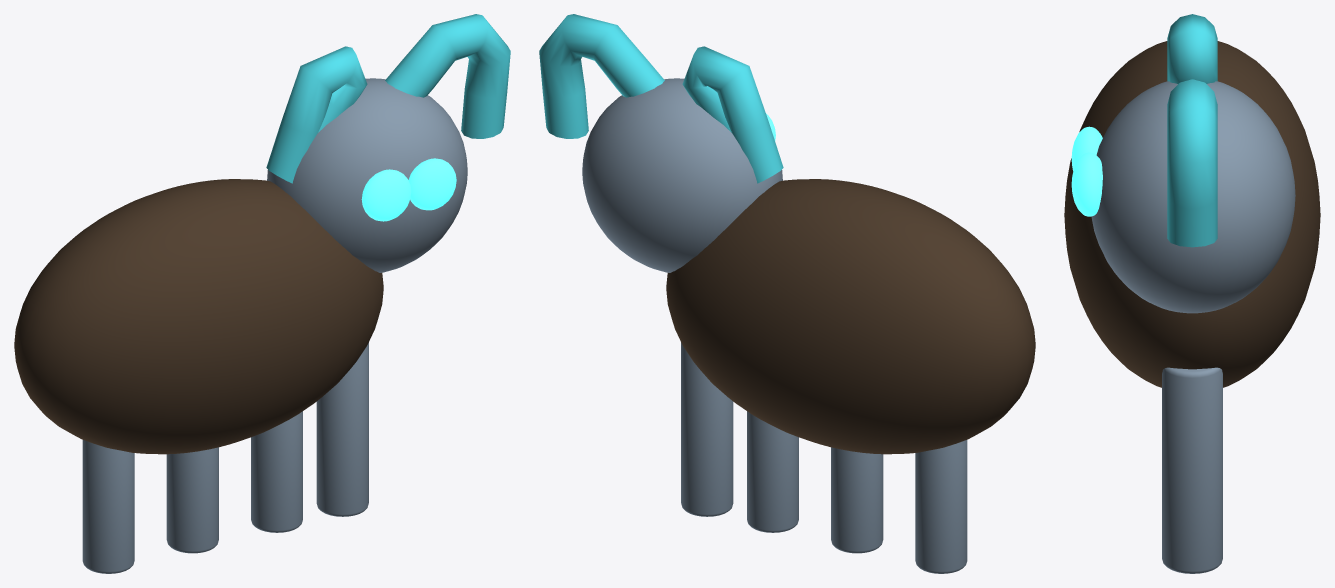
Rendered from quadruped_v7.glb.
3 views of the same model, side by side, from view 1: azimuth 30°, elevation 25°; view 2: azimuth 150°, elevation 25°; view 3: azimuth 270°, elevation 25° (orthographic). The views are drawn at different scales.
Visible parts, largest first — view 1: RAM_BODY_SECONDARY, RAM_HEAD_PRIMARY, RAM_HORN_ACCENT.001, RAM_LEG_PRIMARY.003, RAM_LEG_PRIMARY, RAM_HORN_ACCENT, RAM_LEG_PRIMARY.002, RAM_LEG_PRIMARY.001, EYE_EMISSIVE, EYE_EMISSIVE.001; view 2: RAM_BODY_SECONDARY, RAM_HEAD_PRIMARY, RAM_HORN_ACCENT.001, RAM_LEG_PRIMARY.003, RAM_LEG_PRIMARY, RAM_HORN_ACCENT, RAM_LEG_PRIMARY.002, RAM_LEG_PRIMARY.001; view 3: RAM_HEAD_PRIMARY, RAM_BODY_SECONDARY, RAM_LEG_PRIMARY.003, RAM_HORN_ACCENT.001, RAM_HORN_ACCENT, EYE_EMISSIVE.001, EYE_EMISSIVE.
Boxes of the visible parts, <box> form: RAM_BODY_SECONDARY: <box>14,179,383,454</box>; RAM_HEAD_PRIMARY: <box>267,78,467,272</box>; RAM_HORN_ACCENT.001: <box>385,14,510,138</box>; RAM_LEG_PRIMARY.003: <box>316,342,368,516</box>; RAM_LEG_PRIMARY: <box>82,440,134,573</box>; RAM_HORN_ACCENT: <box>266,46,367,183</box>; RAM_LEG_PRIMARY.002: <box>251,411,302,532</box>; RAM_LEG_PRIMARY.001: <box>166,447,218,553</box>; EYE_EMISSIVE: <box>361,169,411,221</box>; EYE_EMISSIVE.001: <box>408,158,456,210</box>; RAM_BODY_SECONDARY: <box>666,179,1035,454</box>; RAM_HEAD_PRIMARY: <box>582,78,782,272</box>; RAM_HORN_ACCENT.001: <box>539,14,664,138</box>; RAM_LEG_PRIMARY.003: <box>681,342,733,516</box>; RAM_LEG_PRIMARY: <box>915,440,967,573</box>; RAM_HORN_ACCENT: <box>682,46,783,183</box>; RAM_LEG_PRIMARY.002: <box>747,411,798,532</box>; RAM_LEG_PRIMARY.001: <box>831,447,883,553</box>; RAM_HEAD_PRIMARY: <box>1091,81,1295,313</box>; RAM_BODY_SECONDARY: <box>1064,41,1320,387</box>; RAM_LEG_PRIMARY.003: <box>1162,367,1222,573</box>; RAM_HORN_ACCENT.001: <box>1167,79,1217,247</box>; RAM_HORN_ACCENT: <box>1167,14,1217,83</box>; EYE_EMISSIVE.001: <box>1071,152,1102,216</box>; EYE_EMISSIVE: <box>1071,126,1102,170</box>.
Size of the model in its own units: 1.84 by 1.66 by 0.7176.
